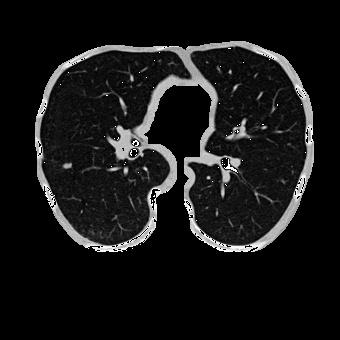PN: (63, 162, 71, 170)
